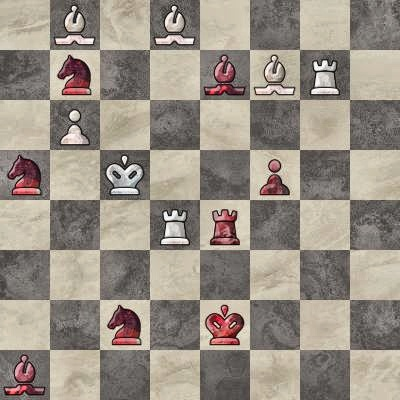black-bishop: (200, 50, 250, 100), (0, 350, 50, 400)
black-king: (200, 300, 250, 350)
black-knight: (50, 50, 100, 100), (0, 150, 50, 200), (100, 300, 150, 350)
black-pawn: (250, 150, 300, 200)
black-rook: (200, 200, 250, 250)
white-bishop: (50, 0, 100, 50), (150, 0, 200, 50), (250, 50, 300, 100)
white-king: (100, 150, 150, 200)
white-pawn: (50, 100, 100, 150)
white-rook: (300, 50, 350, 100), (150, 200, 200, 250)
